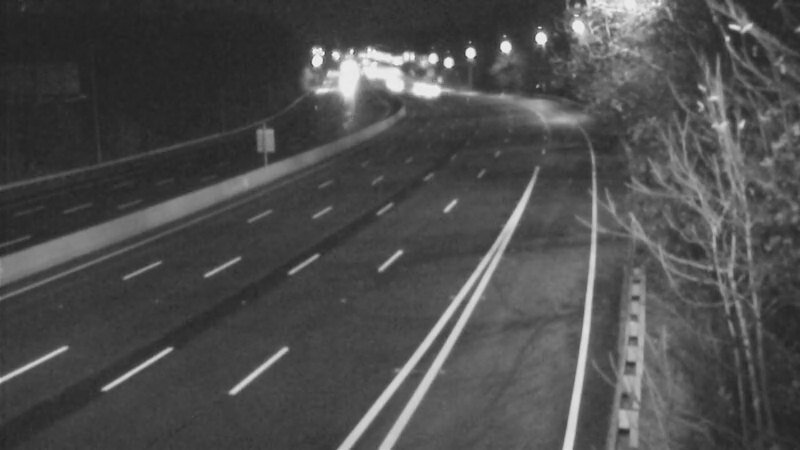vehicle: (368, 58, 418, 108), (387, 62, 437, 112), (402, 64, 452, 114)
